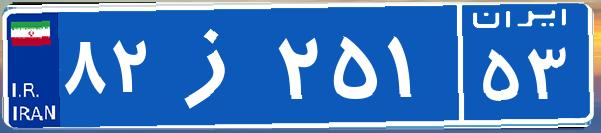1: (385, 28, 445, 110)
2: (273, 28, 330, 110), (110, 28, 158, 105)
3: (525, 38, 570, 115)
5: (330, 28, 385, 110), (475, 38, 525, 113)
8: (57, 26, 110, 107)
ز: (158, 15, 273, 115)
